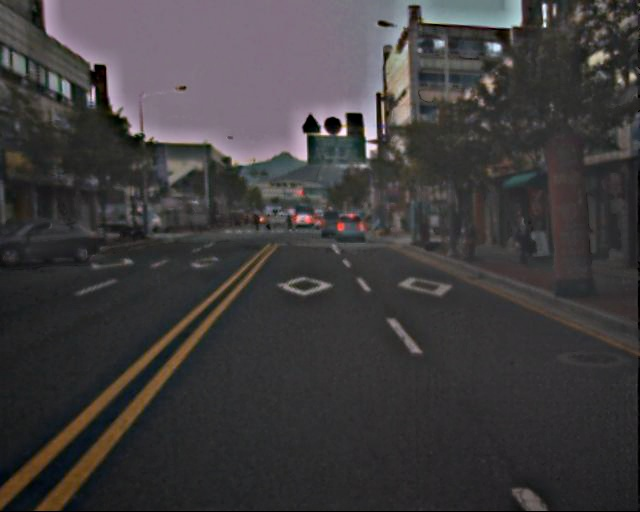person: (512, 211, 534, 265)
